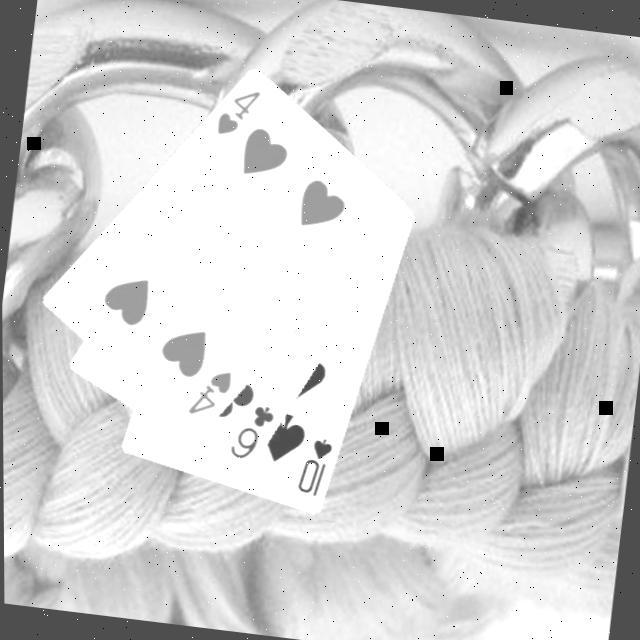10S: (293, 434, 338, 504)
4H: (213, 85, 265, 146), (184, 366, 237, 425)
6C: (226, 401, 279, 468)
